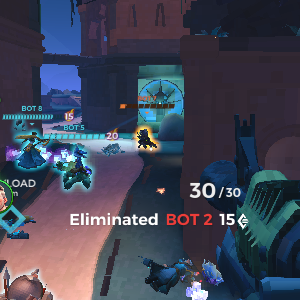model: (136, 123, 157, 155)
